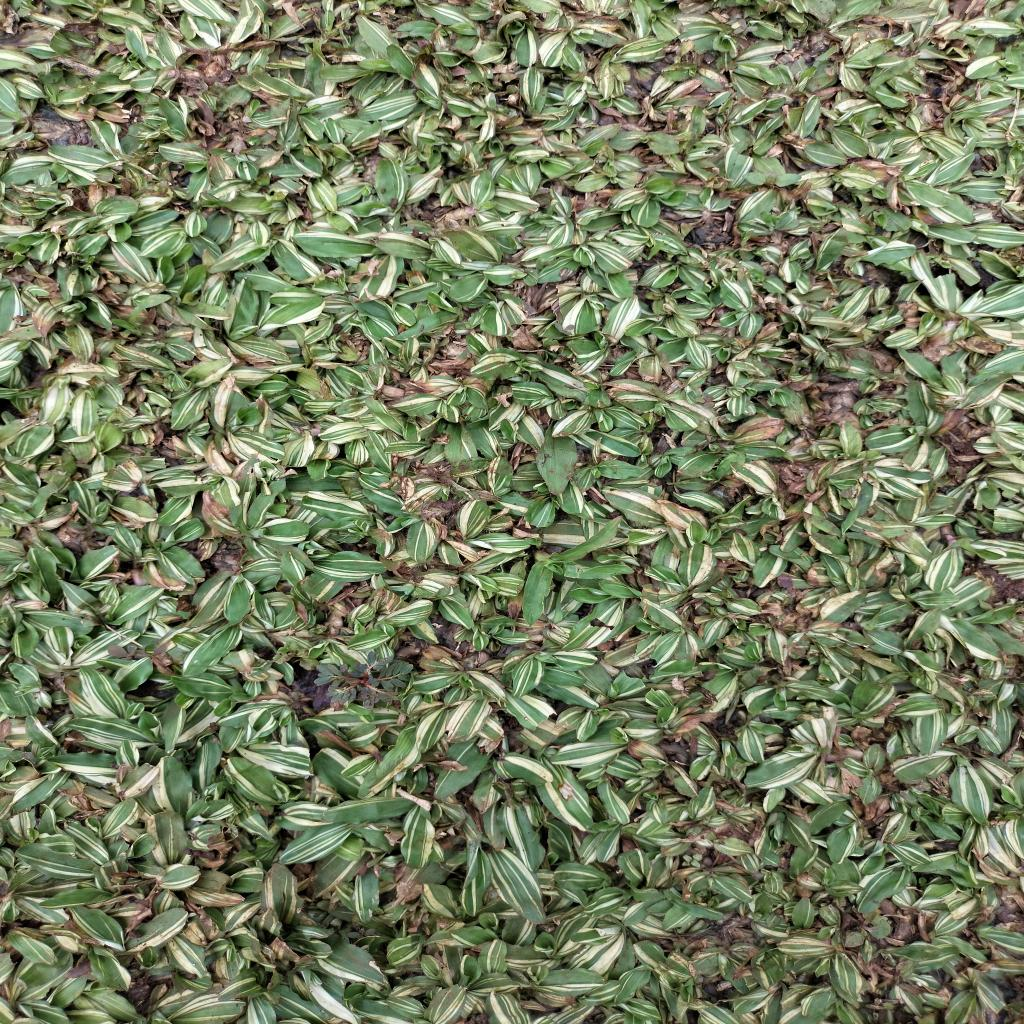buah daun: (312, 646, 418, 712)
rambat atas: (799, 505, 886, 548)
rambat bawah: (520, 512, 636, 630)
